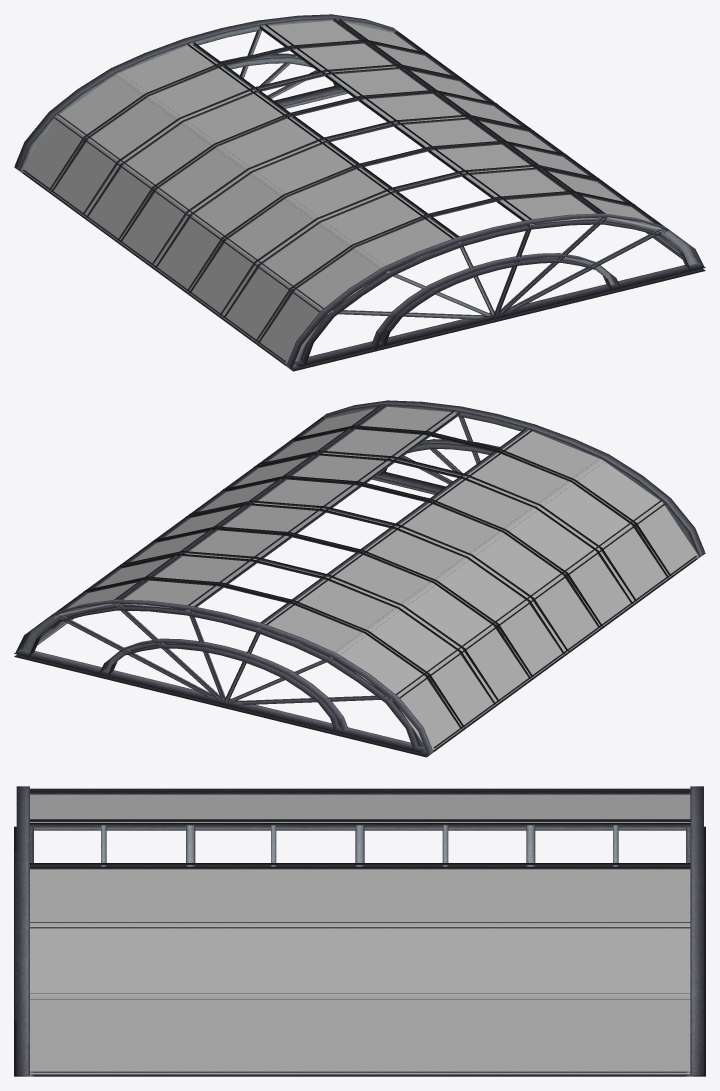
The model's file is stairway_ceiling.fbx.
The picture shows the model from 3 angles, top to bottom: view 1: azimuth 30°, elevation 25°; view 2: azimuth 150°, elevation 25°; view 3: azimuth 270°, elevation 25°; orthographic projection. The views are drawn at different scales.
Parts seen in each view (by area): view 1: ceiling_glass, ceiling_metall; view 2: ceiling_glass, ceiling_metall; view 3: ceiling_glass, ceiling_metall.
Part boxes in pixels (<box>): ceiling_glass: <box>21,20,699,364</box>; ceiling_metall: <box>14,14,705,371</box>; ceiling_glass: <box>20,406,698,750</box>; ceiling_metall: <box>14,400,705,757</box>; ceiling_glass: <box>30,794,690,1074</box>; ceiling_metall: <box>14,786,705,1076</box>.
Bounding box in the file's own units: 1385 × 285 × 1617.
Materials: 2 (1 with a texture image).
